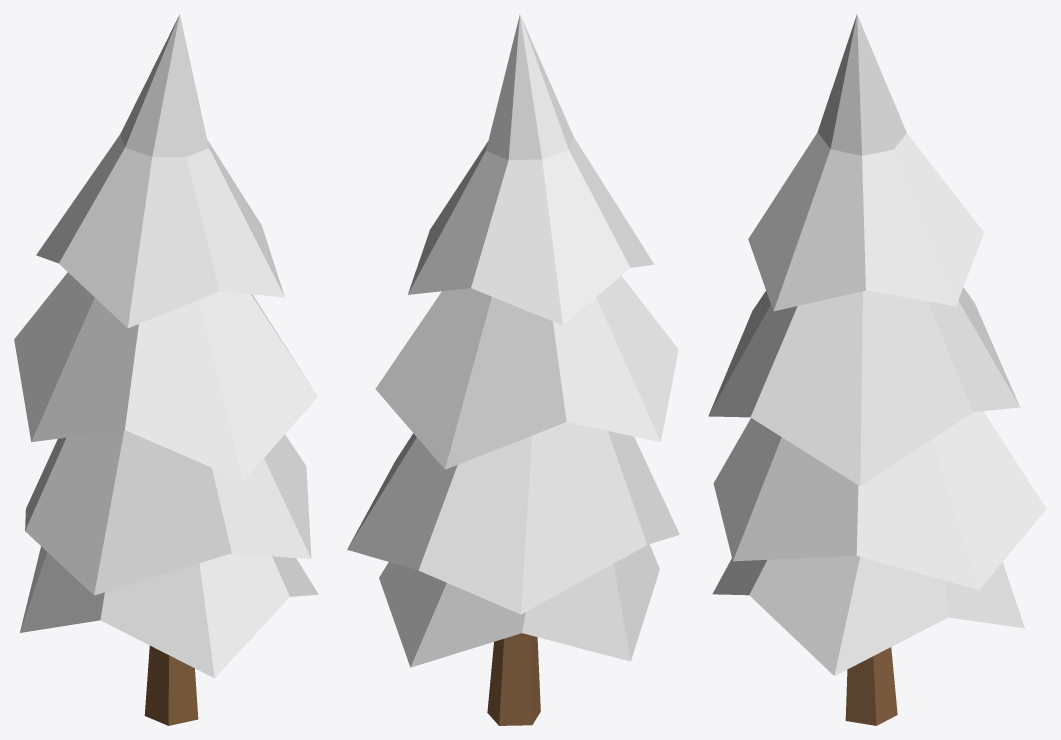
Rendered from Pine_Tree_m_Snow_06.fbx.
3 renders of one model, left to right at view 1: azimuth 30°, elevation 25°; view 2: azimuth 150°, elevation 25°; view 3: azimuth 270°, elevation 25°, orthographic.
Parts seen in each view (by area): view 1: Pine_Tree_m_Snow_06; view 2: Pine_Tree_m_Snow_06; view 3: Pine_Tree_m_Snow_06.
Boxes of the visible parts, left/top/right/bottom form: Pine_Tree_m_Snow_06: left=14, top=14, right=318, bottom=725; Pine_Tree_m_Snow_06: left=347, top=14, right=679, bottom=725; Pine_Tree_m_Snow_06: left=708, top=14, right=1046, bottom=725.
Size of the model in its own units: 375 by 925 by 405.
